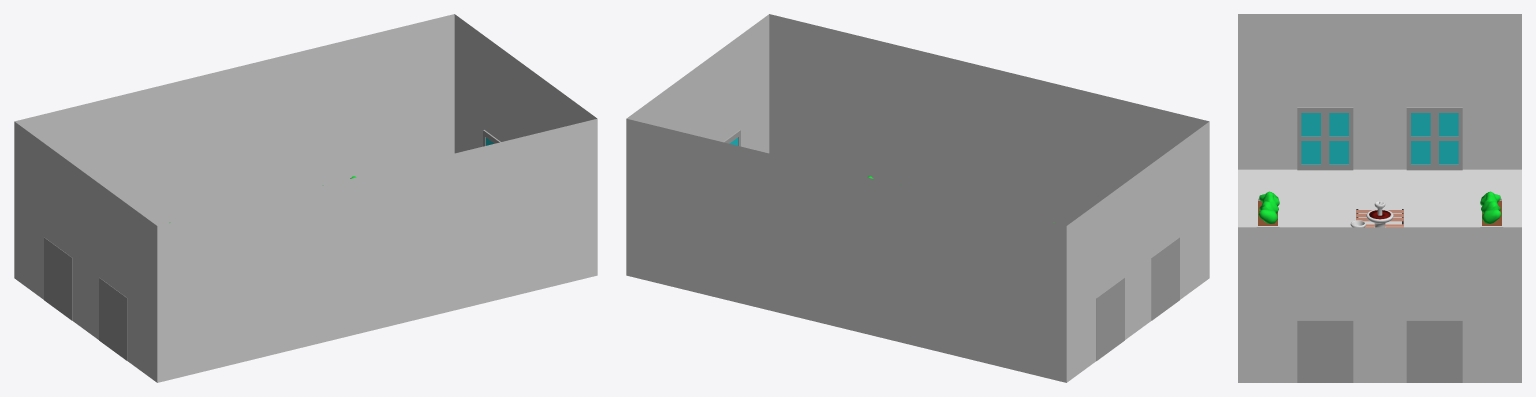
File: MainRoom.fbx
3 views of the same model, side by side, from view 1: azimuth 30°, elevation 25°; view 2: azimuth 150°, elevation 25°; view 3: azimuth 270°, elevation 25° (orthographic).
Visible parts, largest first — view 1: floor, doors; view 2: floor, doors; view 3: floor, doors, planters, benches, fountain.
Part boxes in pixels (bbox=[...]): floor: bbox=[14, 14, 597, 382]; doors: bbox=[44, 130, 500, 360]; floor: bbox=[626, 14, 1209, 382]; doors: bbox=[723, 130, 1179, 360]; floor: bbox=[1238, 14, 1521, 382]; doors: bbox=[1297, 107, 1462, 382]; planters: bbox=[1256, 191, 1503, 227]; benches: bbox=[1356, 209, 1403, 227]; fountain: bbox=[1366, 201, 1393, 227].
Bounding box in the file's own units: 2490 × 847 × 1399.
